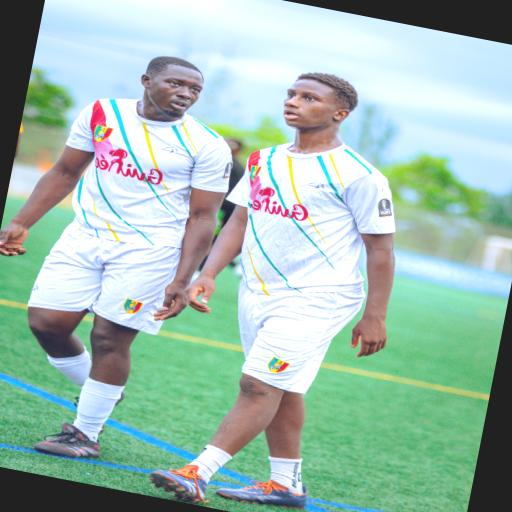shoe: (215, 480, 306, 509), (33, 423, 99, 458), (150, 465, 205, 503), (114, 391, 124, 406)
